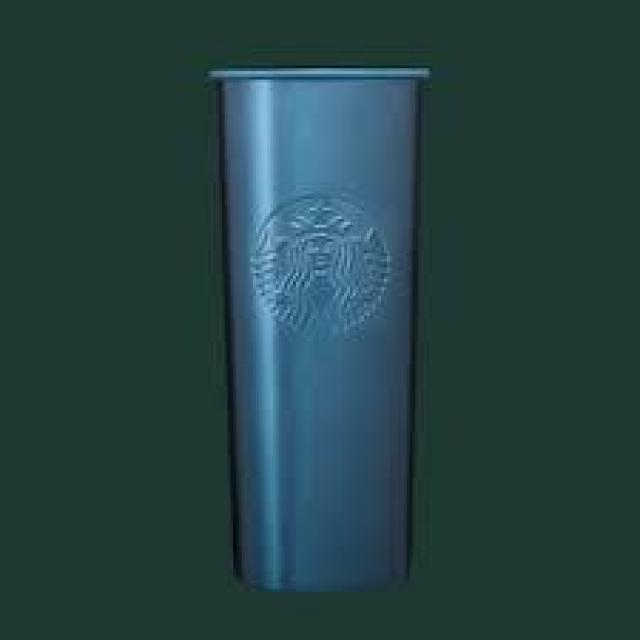bottle: (211, 68, 435, 598)
